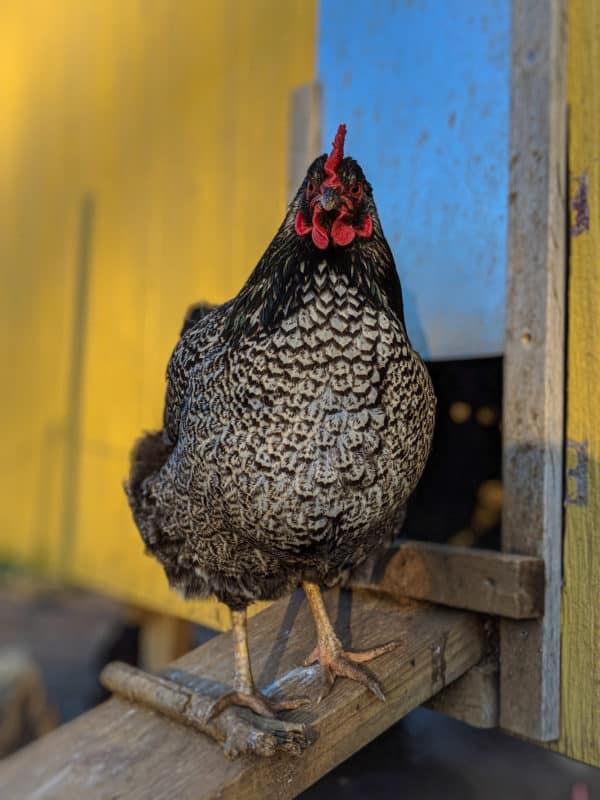AbNormal: (110, 108, 474, 738)
